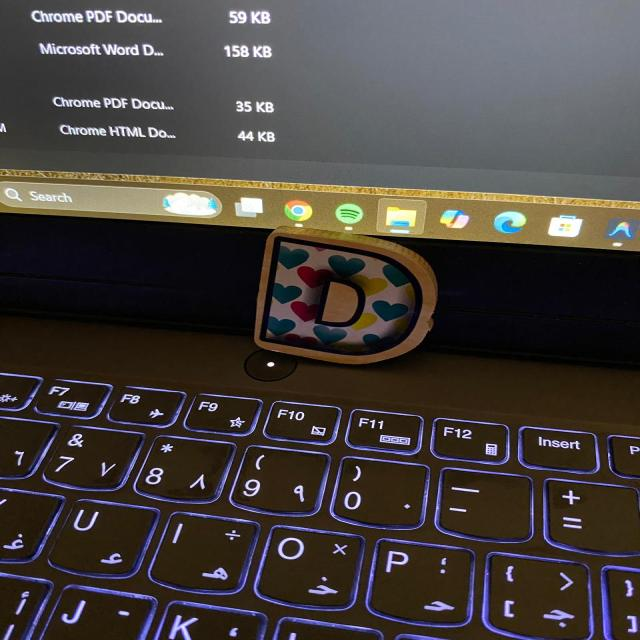D: (254, 226, 437, 364)
